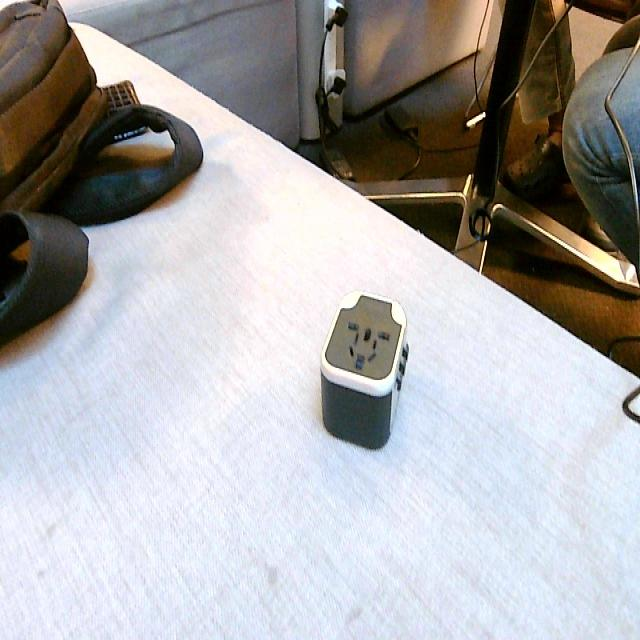adapter: (319, 290, 409, 450)
